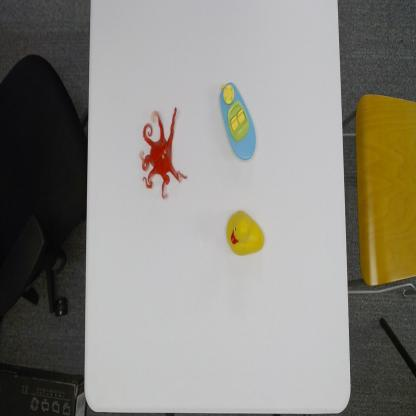Boat: (217, 80, 257, 162)
Duck: (225, 207, 266, 255)
Octopus: (139, 106, 191, 195)
